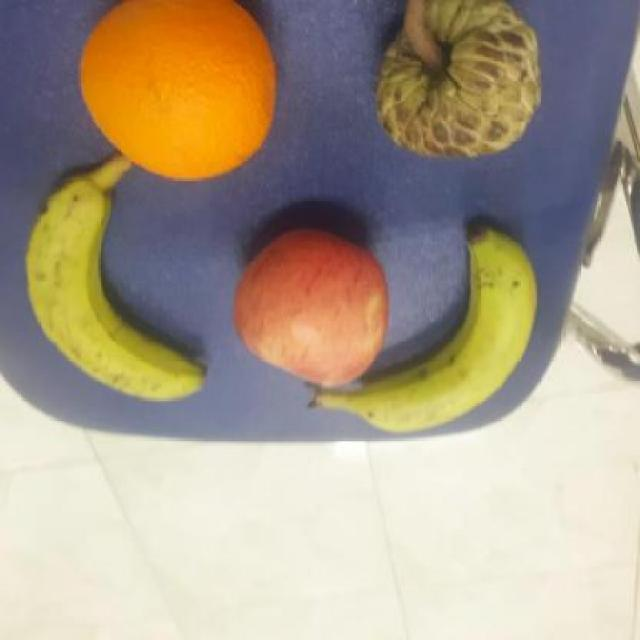apple: (231, 228, 387, 388)
banana: (307, 224, 538, 433), (23, 183, 208, 403)
oren: (77, 0, 277, 178)
sugar apple: (375, 0, 543, 160)
